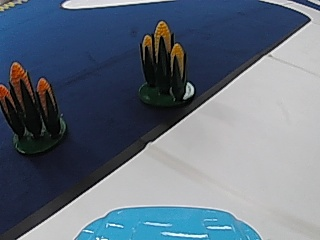corn: (1, 57, 69, 152), (134, 19, 196, 107)
